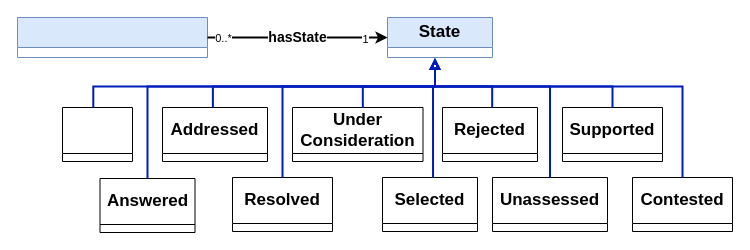
Some shapes in this 750 by 250 pixel diagram are drawn without their labels. The shapes that lost their labels are listed below. From the top down, each one's box as (x1, y1, x2, y2) in pixels, then its label:
(16, 16, 208, 58): MilestoneWithState
(62, 106, 132, 162): Open
